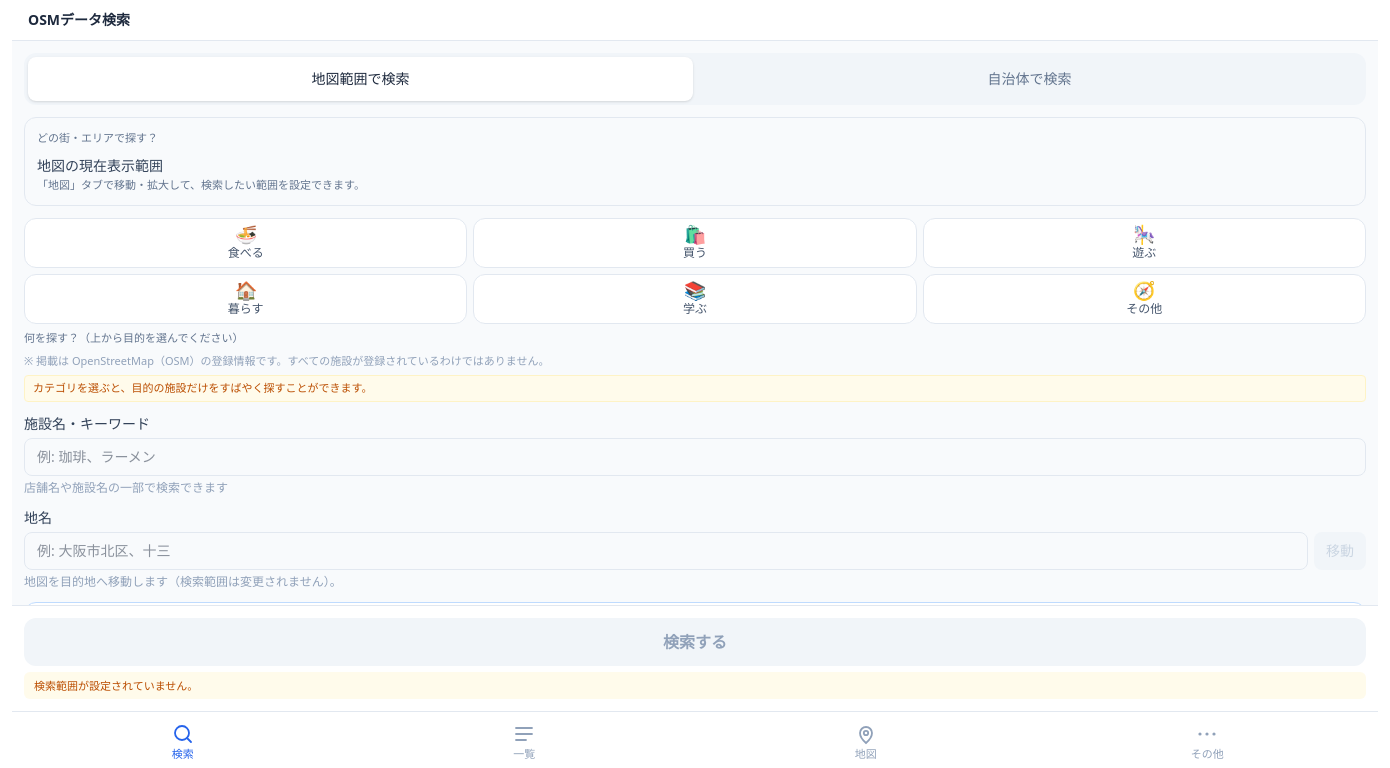
it: (#59) 一覧タブ: クライアント側フィルタ › 検索0件時は専用のガイダンス（EditPanel）が表示される
The image size is (1390, 768).
Click the button "🍜 食べる" at (246, 243), box [24,218,467,268]
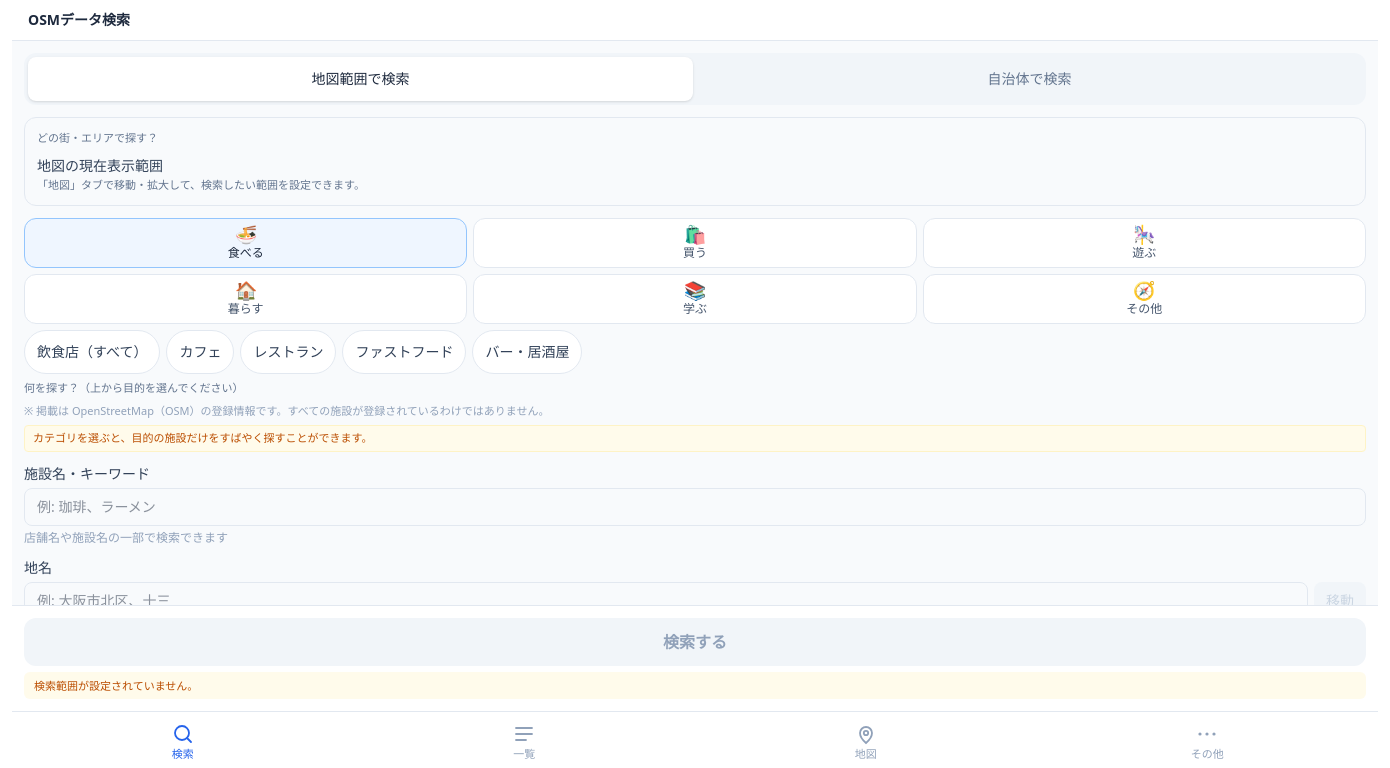
Click the button "カフェ" at (200, 352), box [166,330,234,374]
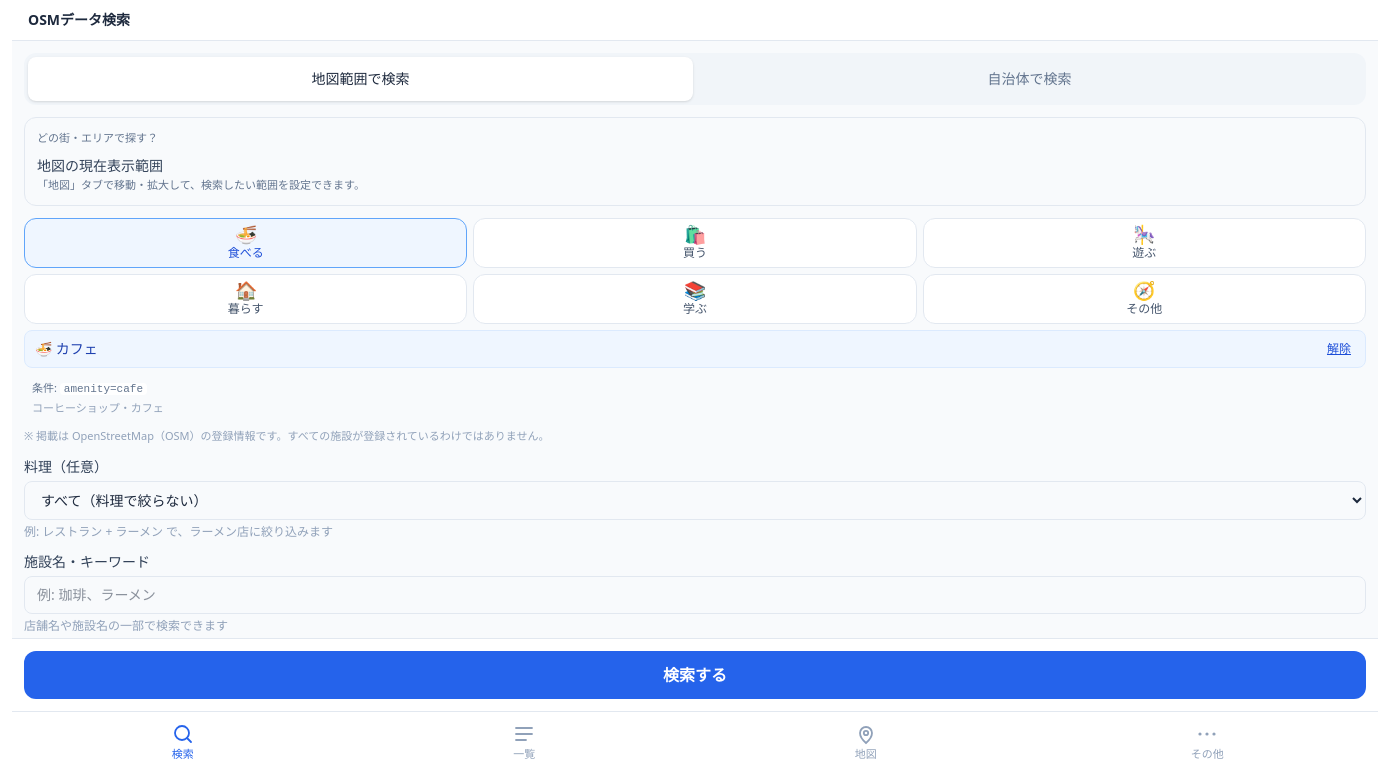
Click the button "検索する" at (695, 675), box [24,651,1366,699]
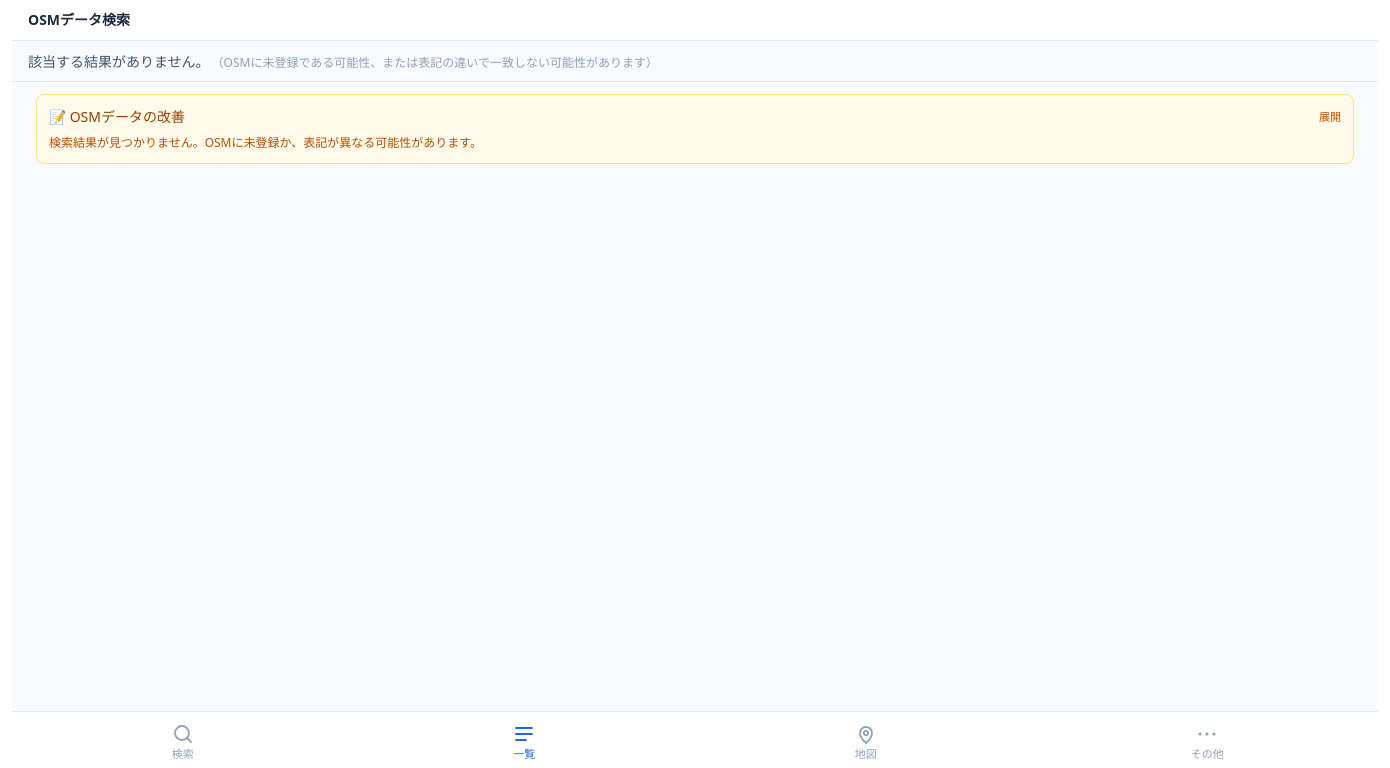
Check: the text "検索結果が見つかりません。OSMに未登録か、表記が異なる可能性があります。" is shown, box [49,134,482,151]
